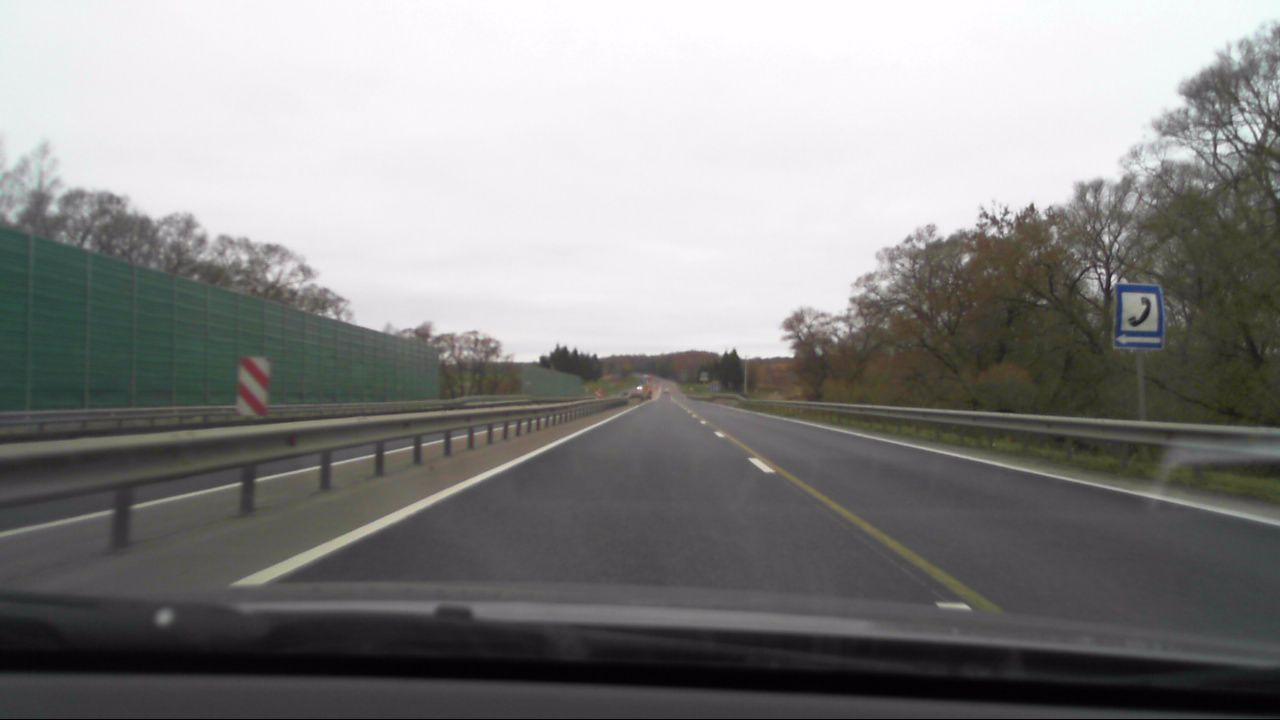7_6: (1115, 282, 1165, 356)
8_22_1: (236, 352, 269, 419)
